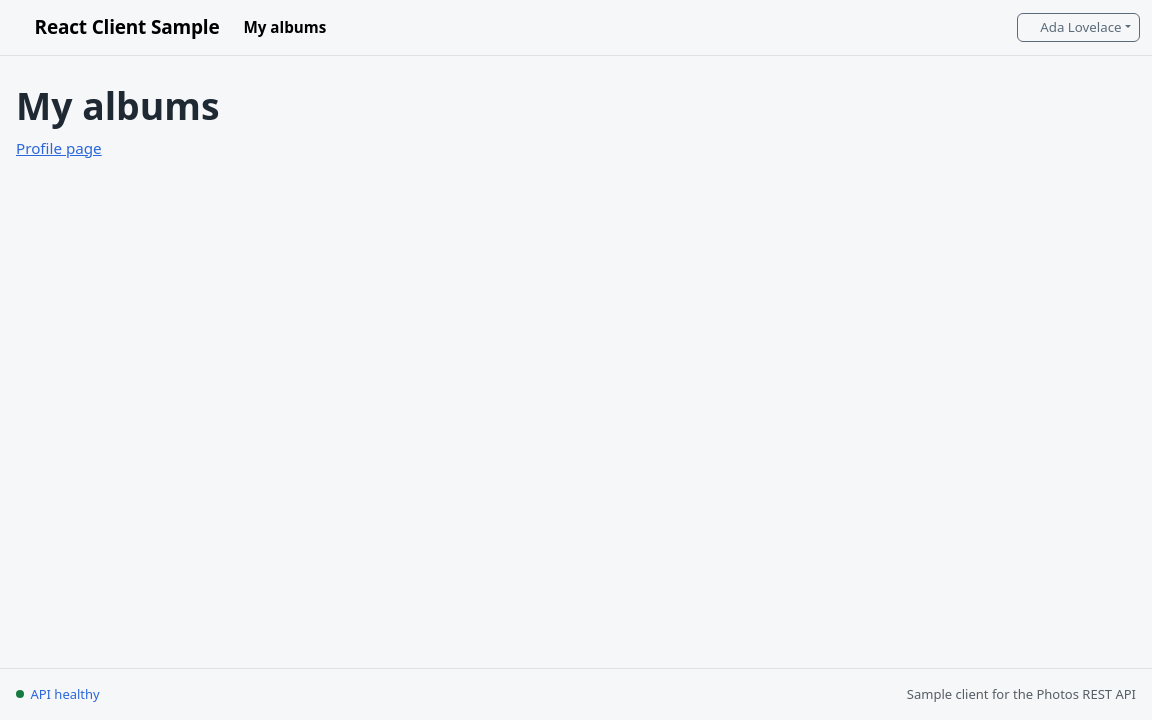
Scenario: The application shell › moves the focus to the new page on navigation, but not on arrival
The image size is (1152, 720).
Click the link "Profile page": (59, 148) [16,138,102,158]
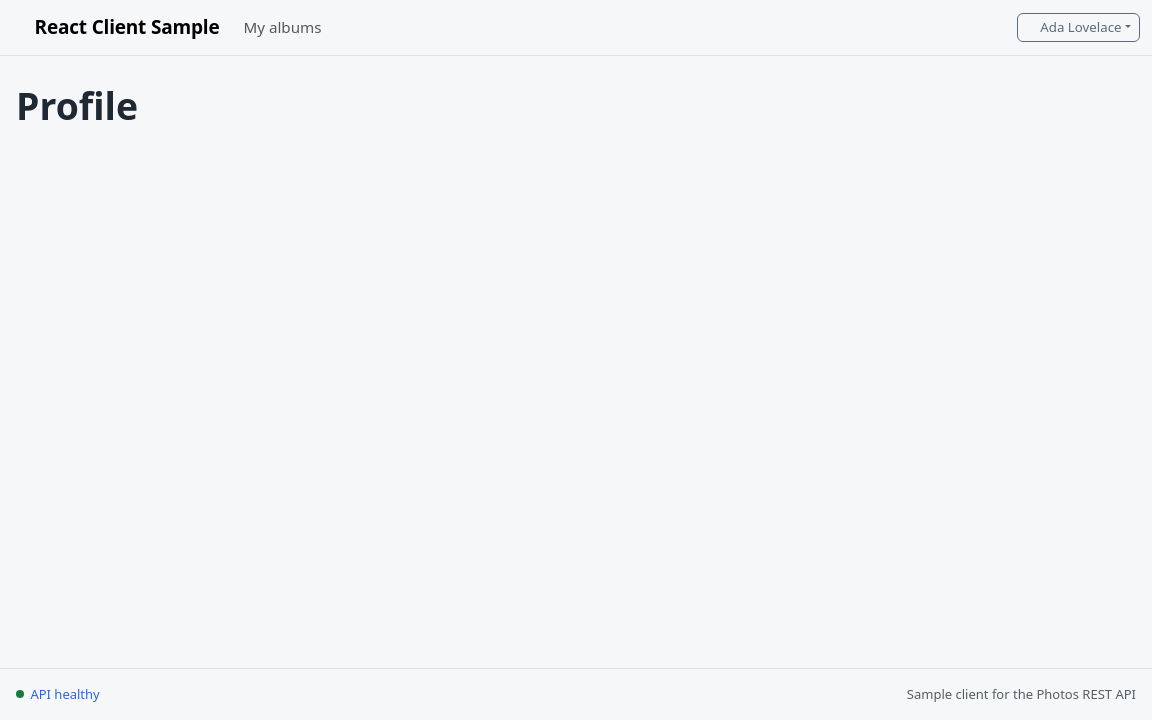
Check: the heading "Profile" is shown, box [16,80,138,131]
